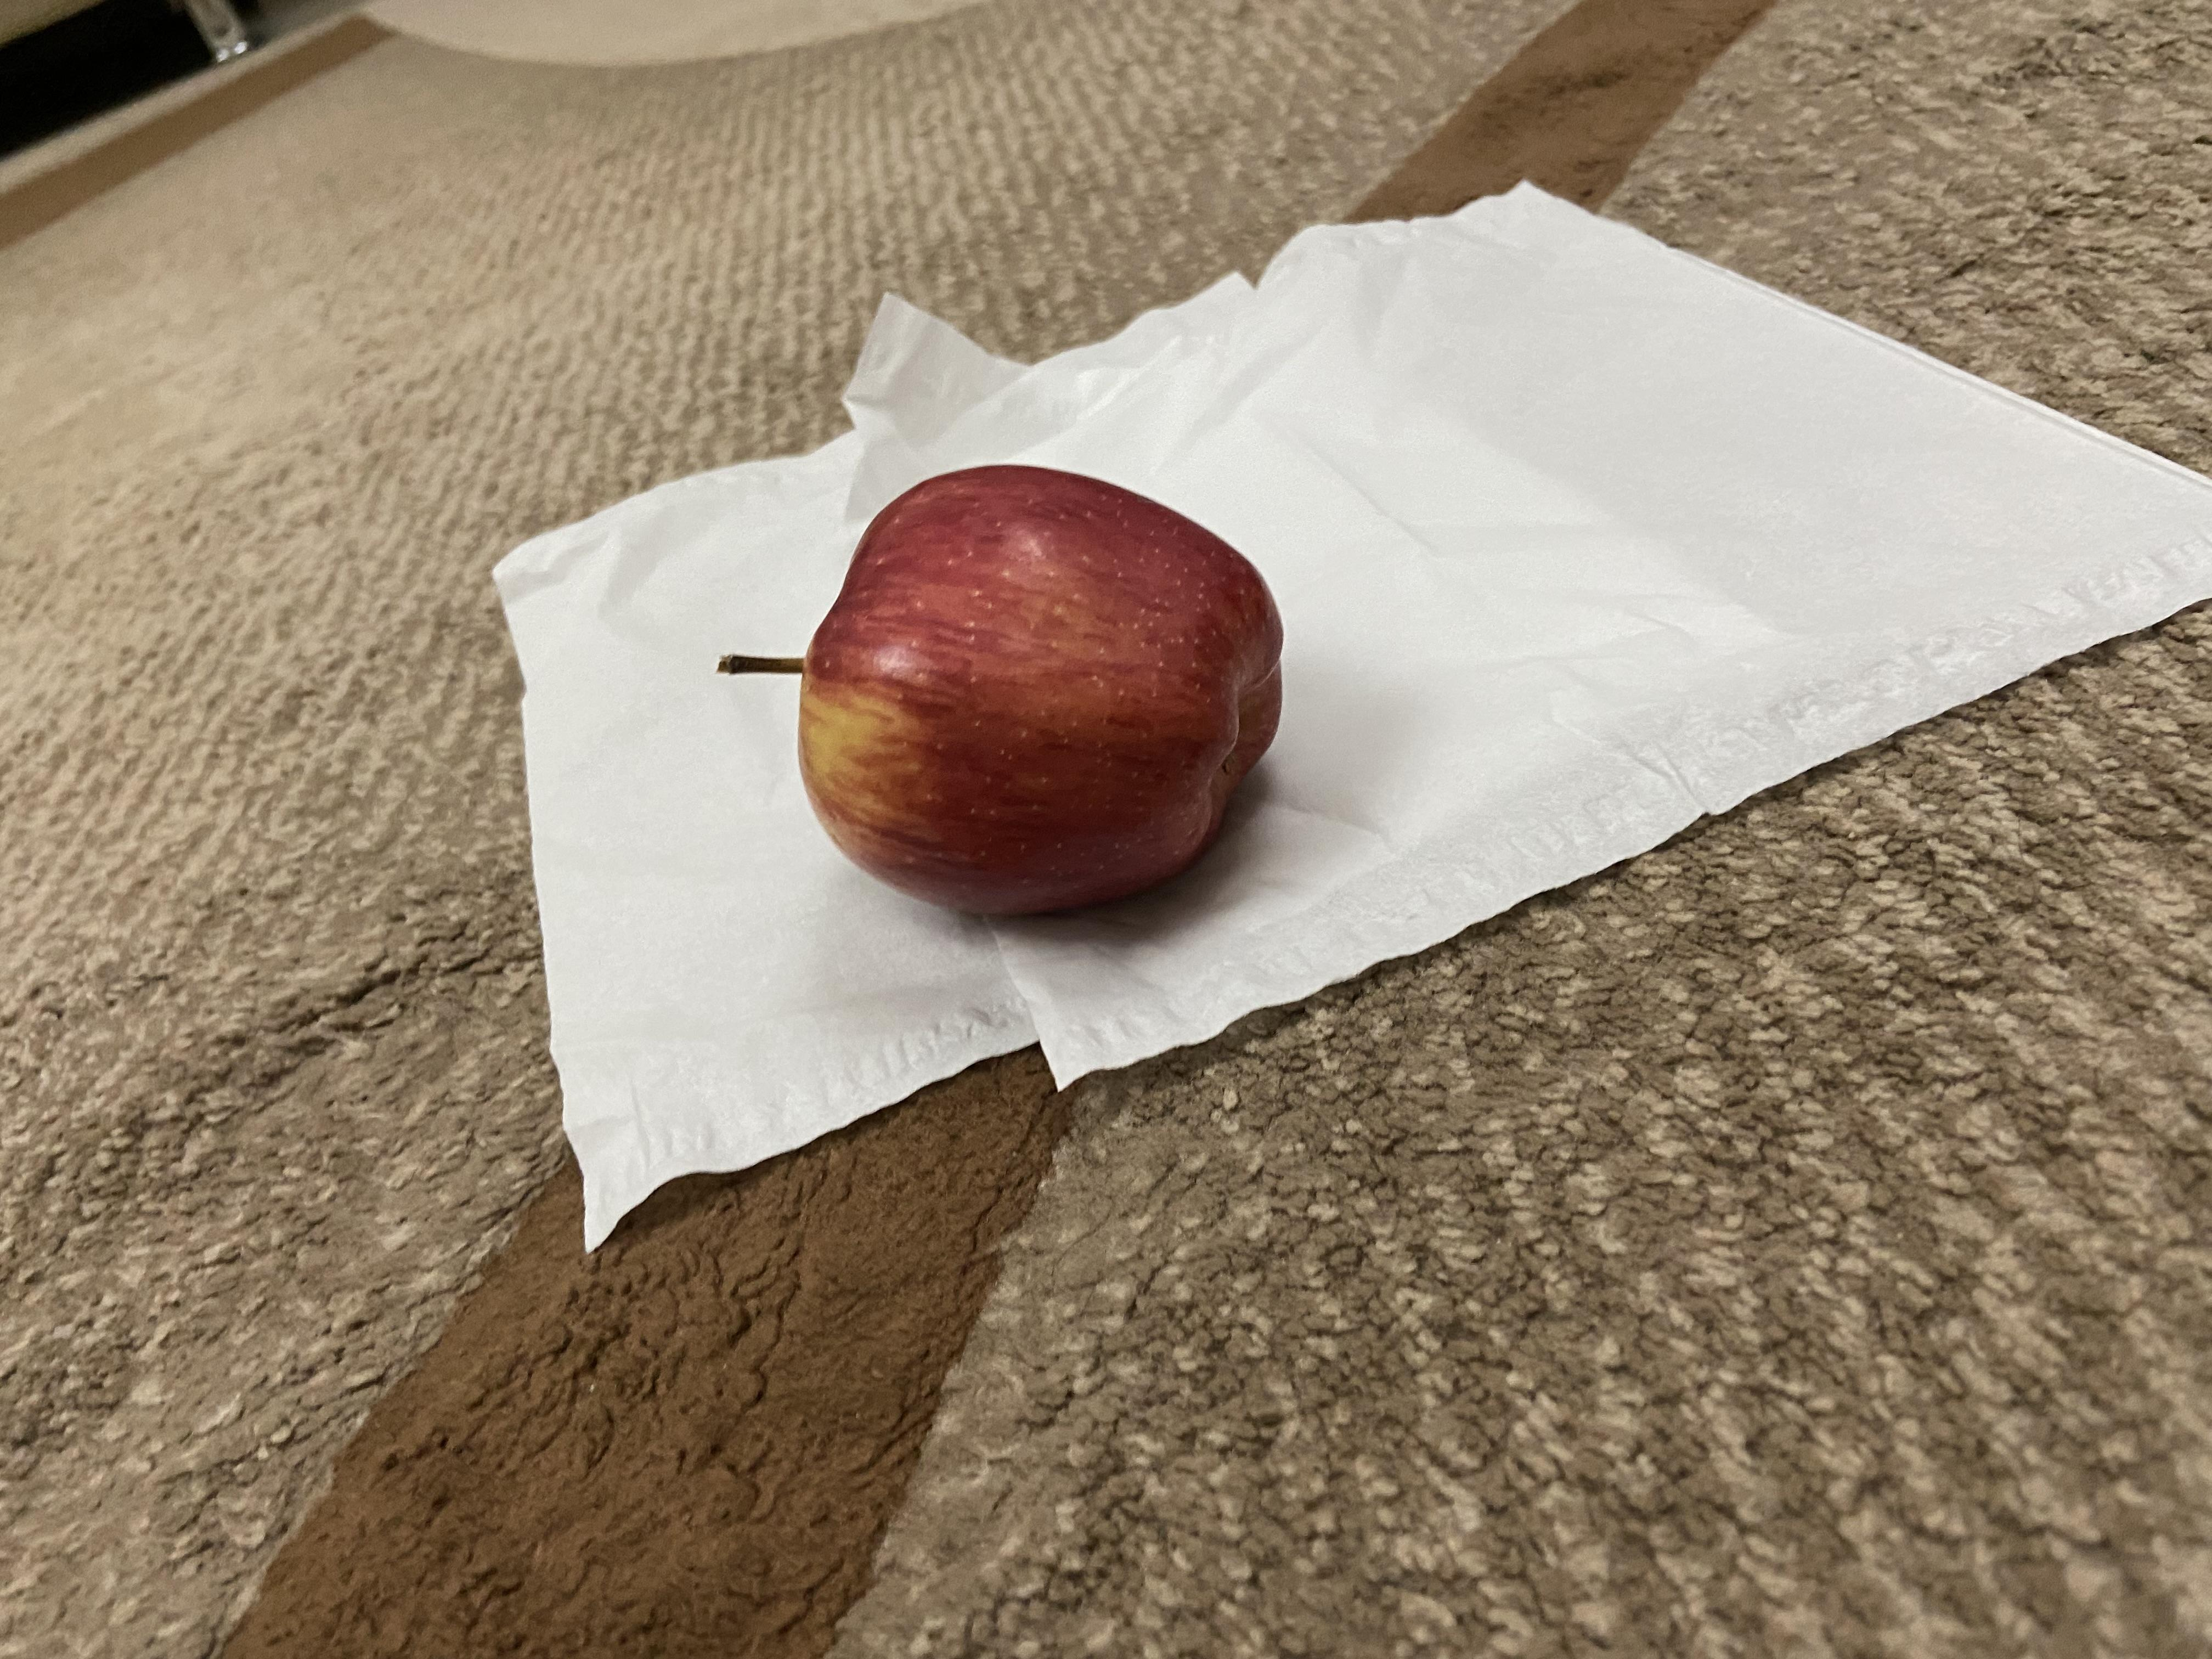Apple: (693, 439, 1301, 950)
